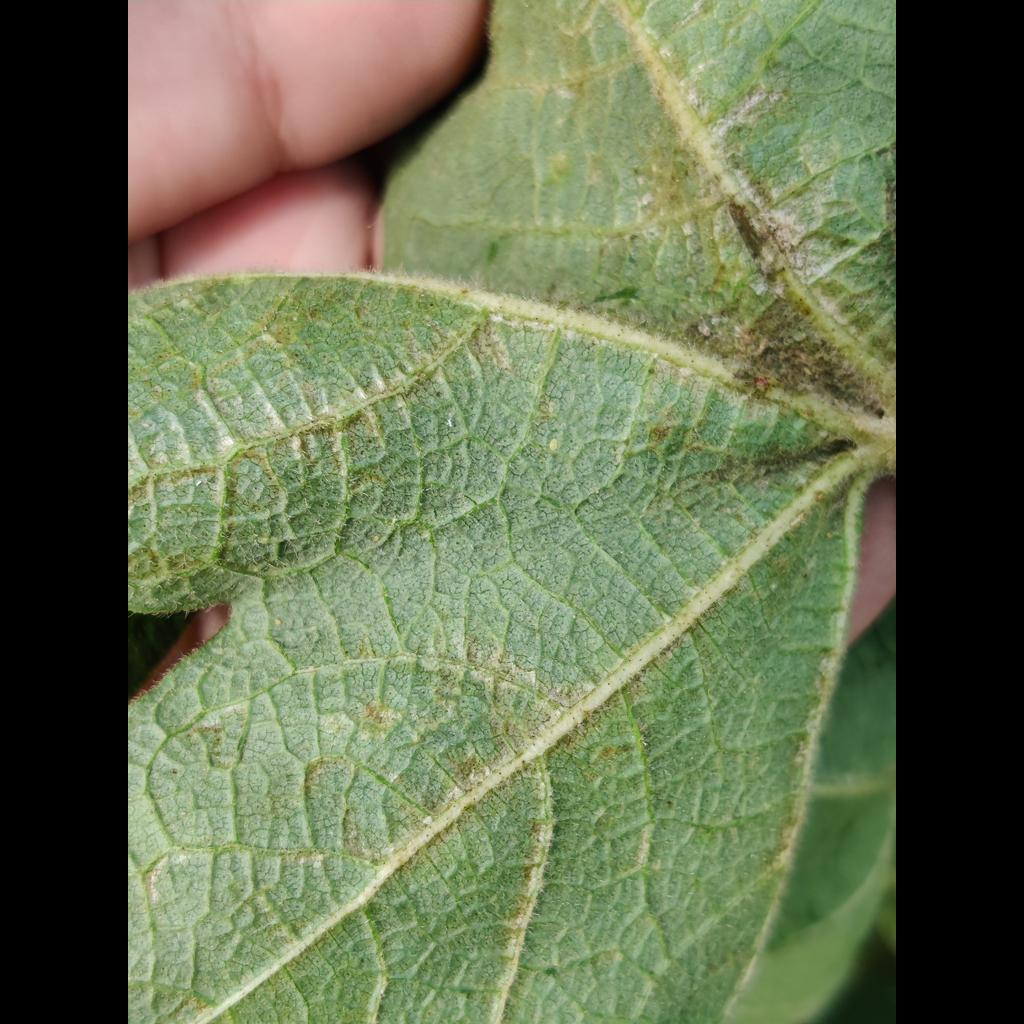nymph: (423, 815, 432, 825), (445, 419, 453, 428), (195, 480, 202, 487), (275, 618, 282, 625), (372, 535, 379, 542), (143, 423, 150, 427)
